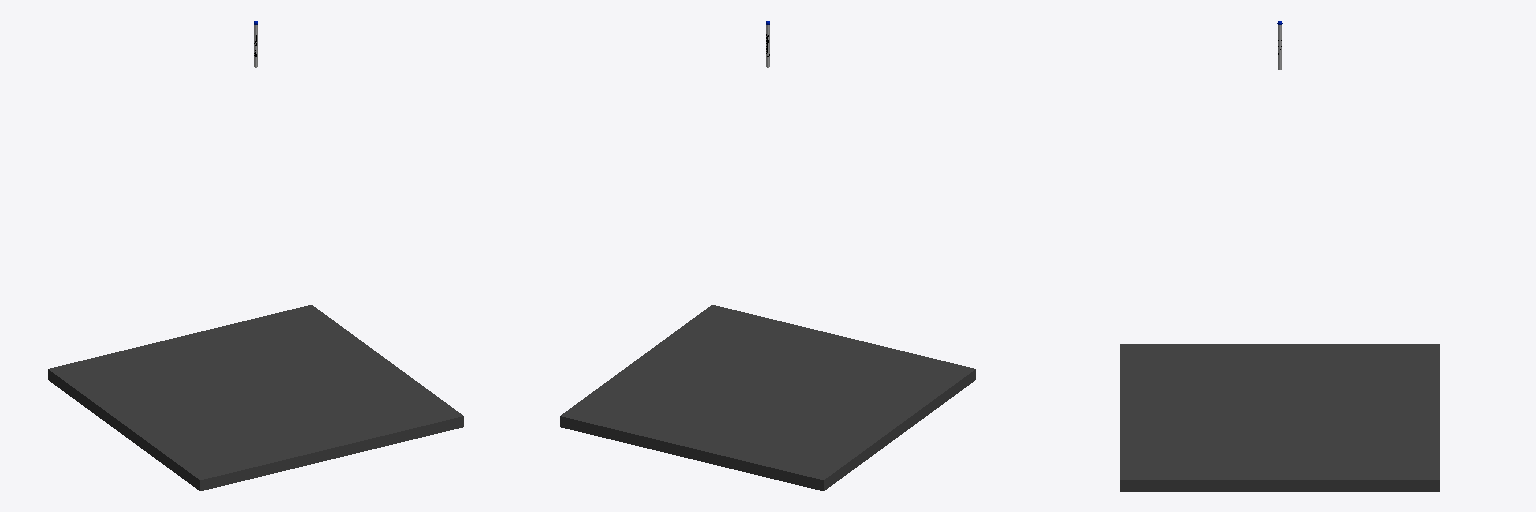
robot.urdf — lwr:
<?xml version="1.0" ?>
<!-- =================================================================================== -->
<!-- |    This document was autogenerated by xacro from kuka_lwr_arm.urdf.xml          | -->
<!-- |    EDITING THIS FILE BY HAND IS NOT RECOMMENDED                                 | -->
<!-- =================================================================================== -->
<robot name="lwr" xmlns:controller="http://playerstage.sourceforge.net/gazebo/xmlschema/#controller" xmlns:interface="http://playerstage.sourceforge.net/gazebo/xmlschema/#interface" xmlns:sensor="http://playerstage.sourceforge.net/gazebo/xmlschema/#sensor" xmlns:xacro="http://www.ros.org/wiki/xacro">
  <gazebo>
    <plugin filename="librtt_gazebo_plugin.so" name="rtt_gazebo">
      <opsScript>
        import(&quot;rtt_ros&quot;);
        ros.import(&quot;rtt_roscomm&quot;);
        ros.import(&quot;rtt_rosparam&quot;);
        ros.import(&quot;rtt_sensor_msgs&quot;);
        ros.import(&quot;lwr_simulation&quot;);
        ros.import(&quot;oro_joint_state_publisher&quot;);
        
        loadComponent(&quot;FRI&quot;,&quot;LWRController&quot;);
        loadComponent(&quot;joints&quot;,&quot;JointStatePublisher&quot;);
        
        loadService(&quot;FRI&quot;,&quot;rosparam&quot;);
        loadService(&quot;joints&quot;,&quot;rosparam&quot;);
        
        setActivity(&quot;FRI&quot;, 0.0, 5, ORO_SCHED_RT);
        setActivity(&quot;joints&quot;, 0.02, 5, ORO_SCHED_RT);
        
        connect(&quot;FRI.JointPosition&quot;,&quot;joints.msrJntPos&quot;, ConnPolicy());
        stream(&quot;joints.joints_state&quot;, rostopic.connection(&quot;/joints_state&quot;));
        
        joints.rosparam.refreshProperties();
        joints.configure();
        joints.start();
      </opsScript>
      <component>FRI</component>
    </plugin>
  </gazebo>
  <material name="DarkGrey">
    <color rgba="0.3 0.3 0.3 1.0"/>
  </material>
  <material name="Red">
    <color rgba="0.3 0.3 0.3 1.0"/>
  </material>
  <material name="Black">
    <color rgba="0 0 0 1.0"/>
  </material>
  <material name="Orange">
    <!--color rgba="1.0 0.487 0 1.0"/-->
    <color rgba="0.0 0.15 0.7 1.0"/>
  </material>
  <material name="Silver">
    <color rgba="1.0 1.0 1.0 1.0"/>
  </material>
  <material name="Grey">
    <color rgba="0.7 0.7 0.7 1.0"/>
  </material>
  <material name="Blue">
    <color rgba="0.0 0.0 0.8 1.0"/>
  </material>
  <material name="HandGray">
    <color rgba="0.953 0.996 0.694 1.0"/>
  </material>
  <material name="SickBlue">
    <color rgba="0.3058 0.5921 0.7294 1.0"/>
  </material>
  <property name="M_PI" value="3.1415926535897931" />
  <!--
  <link name="dupa" >
  </link>
  
  <joint name="arm_world_joint" type="fixed">
    <origin xyz="0 0 0.3" rpy="0 0 0"/>
    <parent link="world"/>
    <child link="world_link"/>
  </joint>
-->
  <link name="base">
    <inertial>
      <mass value="50.0"/>
      <com xyz="0 0 0"/>
      <inertia ixx="0.01" ixy="0.00" ixz="0.00" iyy="0.01" iyz="0.00" izz="0.01"/>
    </inertial>
    <visual>
      <origin rpy="0 0 0" xyz="0 0 0"/>
      <geometry>
        <box size="1 1 0.04"/>
      </geometry>
      <material name="DarkGrey"/>
    </visual>
    <collision>
      <origin rpy="0 0 0" xyz="0 0 0"/>
      <geometry>
        <box size="1 1 0.04"/>
      </geometry>
    </collision>
  </link>
  <joint name="base_joint" type="fixed">
    <origin rpy="0 0 3.14159265359" xyz="0 0 0.02"/>
    <parent link="base"/>
    <child link="lwr_arm_0_link"/>
  </joint>
  <link name="lwr_arm_0_link">
    <inertial>
      <mass value="2.0"/>
      <origin xyz="0 0 0"/>
      <inertia ixx="0.00381666666667" ixy="0" ixz="0" iyy="0.0036" iyz="0" izz="0.00381666666667"/>
    </inertial>
    <visual>
      <origin rpy="0 0 0" xyz="0 0 0"/>
      <geometry>
        <mesh filename="package://lwr_defs/meshes/lwr/base.STL"/>
      </geometry>
      <material name="Orange"/>
    </visual>
    <collision>
      <origin rpy="0 0 3.14159265359" xyz="0 0 0"/>
      <geometry>
        <mesh filename="package://lwr_defs/meshes/lwr/convex/arm_base_convex.stl"/>
        <!--cylinder length="0.11" radius="0.07"/-->
      </geometry>
    </collision>
  </link>
  <joint name="lwr_arm_0_joint" type="revolute">
    <origin rpy="0 0 0" xyz="0 0 0.11"/>
    <axis xyz="0 0 1"/>
    <limit effort="204" lower="-2.96705972839" upper="2.96705972839" velocity="1.91986217719"/>
    <safety_controller k_position="30" k_velocity="30" soft_lower_limit="-2.93215314335" soft_upper_limit="2.93215314335"/>
    <dynamics damping="1.0"/>
    <parent link="lwr_arm_0_link"/>
    <child link="lwr_arm_1_link"/>
  </joint>
  <link name="lwr_arm_1_link">
    <inertial>
      <mass value="2.0"/>
      <origin rpy="0 0 0" xyz="0 -0.06 0.130"/>
      <inertia ixx="0.0136666666667" ixy="0" ixz="0" iyy="0.003" iyz="0" izz="0.0118666666667"/>
    </inertial>
    <visual>
      <origin rpy="0 0 0" xyz="0 0 -0.008"/>
      <geometry>
        <mesh filename="package://lwr_defs/meshes/lwr/link_1.STL"/>
      </geometry>
      <material name="Orange"/>
    </visual>
      <collision>
        <origin xyz="0 0 0" rpy="0 0 0"/>
        <geometry>
          <mesh filename="package://lwr_defs/meshes/lwr/convex/arm_segment_a_convex.stl"/>
        </geometry>
      </collision>
    <!--collision>
      <origin rpy="0 0 0" xyz="0 0 0.0"/>
      <geometry>
        <sphere radius="0.07"/>
      </geometry>
    </collision>
    <collision>
      <origin rpy="0 0 0" xyz="0 -0.06 0.2"/>
      <geometry>
        <sphere radius="0.07"/>
      </geometry>
    </collision>
    <collision>
      <origin rpy="0.291 0 0" xyz="0 -0.03 0.1"/>
      <geometry>
        <cylinder length="0.208" radius="0.07"/>
      </geometry>
    </collision-->
  </link>
  <gazebo reference="lwr_arm_1_link">
    <gravity>false</gravity>
  </gazebo>
  <transmission name="lwr_arm_0_trans" type="SimpleTransmission">
    <actuator name="lwr_arm_0_motor"/>
    <joint name="lwr_arm_0_joint"/>
    <mechanicalReduction>1.0</mechanicalReduction>
  </transmission>
  <joint name="lwr_arm_1_joint" type="revolute">
    <origin rpy="0 0 0" xyz="0 0 0.2005"/>
    <axis xyz="0 1 0"/>
    <limit effort="306" lower="-2.09439510239" upper="2.09439510239" velocity="1.91986217719"/>
    <safety_controller k_position="30" k_velocity="30" soft_lower_limit="-2.05948851735" soft_upper_limit="2.05948851735"/>
    <dynamics damping="1.0" friction="10"/>
    <parent link="lwr_arm_1_link"/>
    <child link="lwr_arm_2_link"/>
  </joint>
  <link name="lwr_arm_2_link">
    <inertial>
      <mass value="2.0"/>
      <origin rpy="0 0 0" xyz="0 0.06 0.07"/>
      <inertia ixx="0.0136666666667" ixy="0" ixz="0" iyy="0.003" iyz="0" izz="0.0118666666667"/>
    </inertial>
    <visual>
      <origin rpy="0 0 0" xyz="0 0 0.0"/>
      <geometry>
        <mesh filename="package://lwr_defs/meshes/lwr/link_2.STL"/>
      </geometry>
      <material name="Orange"/>
    </visual>
      <collision>
        <origin xyz="0 0 0.2" rpy="3.14159265359 0 0"/>
        <geometry>
          <mesh filename="package://lwr_defs/meshes/lwr/convex/arm_segment_b_convex.stl"/>
        </geometry>
      </collision>
    <!--collision>
      <origin rpy="0 0 0" xyz="0 0 0.2"/>
      <geometry>
        <sphere radius="0.07"/>
      </geometry>
    </collision>
    <collision>
      <origin rpy="0 0 0" xyz="0 0.06 0.0"/>
      <geometry>
        <sphere radius="0.07"/>
      </geometry>
    </collision>
    <collision>
      <origin rpy="0.291 0 0" xyz="0 0.03 0.1"/>
      <geometry>
        <cylinder length="0.208" radius="0.07"/>
      </geometry>
    </collision-->
  </link>
  <gazebo reference="lwr_arm_2_link">
    <gravity>false</gravity>
  </gazebo>
  <transmission name="lwr_arm_1_trans" type="SimpleTransmission">
    <actuator name="lwr_arm_1_motor"/>
    <joint name="lwr_arm_1_joint"/>
    <mechanicalReduction>1.0</mechanicalReduction>
  </transmission>
  <joint name="lwr_arm_2_joint" type="revolute">
    <origin rpy="0 0 0" xyz="0 0 0.20"/>
    <axis xyz="0 0 1"/>
    <limit effort="204" lower="-2.96705972839" upper="2.96705972839" velocity="2.26892802759"/>
    <safety_controller k_position="30" k_velocity="30" soft_lower_limit="-2.93215314335" soft_upper_limit="2.93215314335"/>
    <dynamics damping="1.0"/>
    <parent link="lwr_arm_2_link"/>
    <child link="lwr_arm_3_link"/>
  </joint>
  <link name="lwr_arm_3_link">
    <inertial>
      <mass value="2.0"/>
      <origin rpy="0 0 0" xyz="0 0.06 0.130"/>
      <inertia ixx="0.0136666666667" ixy="0" ixz="0" iyy="0.003" iyz="0" izz="0.0118666666667"/>
    </inertial>
    <visual>
      <origin rpy="0 0 0" xyz="0 0 -0.008"/>
      <geometry>
        <mesh filename="package://lwr_defs/meshes/lwr/link_3.STL"/>
      </geometry>
      <material name="Orange"/>
    </visual>
      <collision>
        <origin xyz="0 0 0" rpy="0 0 3.1415926535897931"/>
        <geometry>
          <mesh filename="package://lwr_defs/meshes/lwr/convex/arm_segment_a_convex.stl"/>
        </geometry>
      </collision>
    <!--collision>
      <origin rpy="0 0 0" xyz="0 0 0.0"/>
      <geometry>
        <sphere radius="0.07"/>
      </geometry>
    </collision>
    <collision>
      <origin rpy="0 0 0" xyz="0 0.06 0.2"/>
      <geometry>
        <sphere radius="0.07"/>
      </geometry>
    </collision>
    <collision>
      <origin rpy="-0.291 0 0" xyz="0 0.03 0.1"/>
      <geometry>
        <cylinder length="0.208" radius="0.07"/>
      </geometry>
    </collision-->
  </link>
  <gazebo reference="lwr_arm_3_link">
    <gravity>false</gravity>
  </gazebo>
  <transmission name="lwr_arm_2_trans" type="SimpleTransmission">
    <actuator name="lwr_arm_2_motor"/>
    <joint name="lwr_arm_2_joint"/>
    <mechanicalReduction>1.0</mechanicalReduction>
  </transmission>
  <joint name="lwr_arm_3_joint" type="revolute">
    <origin rpy="0 0 0" xyz="0 0 0.20"/>
    <axis xyz="0 -1 0"/>
    <limit effort="306" lower="-2.09439510239" upper="2.09439510239" velocity="2.26892802759"/>
    <safety_controller k_position="30" k_velocity="30" soft_lower_limit="-2.05948851735" soft_upper_limit="2.05948851735"/>
    <dynamics damping="1.0"/>
    <parent link="lwr_arm_3_link"/>
    <child link="lwr_arm_4_link"/>
  </joint>
  <link name="lwr_arm_4_link">
    <inertial>
      <mass value="2.0"/>
      <origin rpy="0 0 0" xyz="0 -0.06 0.07"/>
      <inertia ixx="0.0136666666667" ixy="0" ixz="0" iyy="0.003" iyz="0" izz="0.0118666666667"/>
    </inertial>
    <visual>
      <origin rpy="0 0 0" xyz="0 0 0.0"/>
      <geometry>
        <mesh filename="package://lwr_defs/meshes/lwr/link_4.STL"/>
      </geometry>
      <material name="Orange"/>
    </visual>

      <collision>
        <origin xyz="0 0 0.2" rpy="0 3.1415926535897931 0"/>
        <geometry>
          <mesh filename="package://lwr_defs/meshes/lwr/convex/arm_segment_b_convex.stl"/>
        </geometry>
      </collision>

    <!--collision>
      <origin rpy="0 0 0" xyz="0 0 0.2"/>
      <geometry>
        <sphere radius="0.07"/>
      </geometry>
    </collision>
    <collision>
      <origin rpy="0 0 0" xyz="0 -0.06 0.0"/>
      <geometry>
        <sphere radius="0.07"/>
      </geometry>
    </collision>
    <collision>
      <origin rpy="-0.291 0 0" xyz="0 -0.03 0.1"/>
      <geometry>
        <cylinder length="0.208" radius="0.07"/>
      </geometry>
    </collision-->
  </link>
  <gazebo reference="lwr_arm_4_link">
    <gravity>false</gravity>
  </gazebo>
  <transmission name="lwr_arm_3_trans" type="SimpleTransmission">
    <actuator name="lwr_arm_3_motor"/>
    <joint name="lwr_arm_3_joint"/>
    <mechanicalReduction>1.0</mechanicalReduction>
  </transmission>
  <joint name="lwr_arm_4_joint" type="revolute">
    <origin rpy="0 0 0" xyz="0 0 0.20"/>
    <axis xyz="0 0 1"/>
    <limit effort="204" lower="-2.96705972839" upper="2.96705972839" velocity="2.26892802759"/>
    <safety_controller k_position="30" k_velocity="30" soft_lower_limit="-2.93215314335" soft_upper_limit="2.93215314335"/>
    <dynamics damping="1.0"/>
    <parent link="lwr_arm_4_link"/>
    <child link="lwr_arm_5_link"/>
  </joint>
  <link name="lwr_arm_5_link">
    <inertial>
      <mass value="2.0"/>
      <origin rpy="0 0 0" xyz="0 0 0.124"/>
      <inertia ixx="0.0126506666667" ixy="0" ixz="0" iyy="0.003" iyz="0" izz="0.0108506666667"/>
    </inertial>
    <visual>
      <origin rpy="0 0 0" xyz="0 0 -0.008"/>
      <geometry name="lwr_arm_5_geom">
        <mesh filename="package://lwr_defs/meshes/lwr/link_5.STL"/>
      </geometry>
      <material name="Orange"/>
    </visual>
      <collision>
        <origin xyz="0 0 0" rpy="0 0 0"/>
        <geometry>
          <mesh filename="package://lwr_defs/meshes/lwr/convex/arm_segment_last_convex.stl"/>
        </geometry>
      </collision>
    <!--collision>
      <origin rpy="0 0 0" xyz="0 0 0.0"/>
      <geometry>
        <sphere radius="0.07"/>
      </geometry>
    </collision>
    <collision>
      <origin rpy="0 0 0" xyz="0 -0.04 0.19"/>
      <geometry>
        <sphere radius="0.07"/>
      </geometry>
    </collision>
    <collision>
      <origin rpy="0.207 0 0" xyz="0 -0.02 0.095"/>
      <geometry>
        <cylinder length="0.198" radius="0.07"/>
      </geometry>
    </collision-->
  </link>
  <gazebo reference="lwr_arm_5_link">
    <gravity>false</gravity>
  </gazebo>
  <transmission name="lwr_arm_4_trans" type="SimpleTransmission">
    <actuator name="lwr_arm_4_motor"/>
    <joint name="lwr_arm_4_joint"/>
    <mechanicalReduction>1.0</mechanicalReduction>
  </transmission>
  <joint name="lwr_arm_5_joint" type="revolute">
    <origin rpy="0 0 0" xyz="0 0 0.19"/>
    <axis xyz="0 1 0"/>
    <limit effort="306" lower="-2.09439510239" upper="2.09439510239" velocity="3.14159265359"/>
    <safety_controller k_position="30" k_velocity="30" soft_lower_limit="-2.05948851735" soft_upper_limit="2.05948851735"/>
    <dynamics damping="1.0"/>
    <parent link="lwr_arm_5_link"/>
    <child link="lwr_arm_6_link"/>
  </joint>
  <link name="lwr_arm_6_link">
    <inertial>
      <mass value="0.2"/>
      <origin rpy="0 0 0" xyz="0 0 0.0625"/>
      <inertia ixx="0.000520833333333" ixy="0" ixz="0" iyy="0.000520833333333" iyz="0" izz="0.000520833333333"/>
    </inertial>
    <visual>
      <origin rpy="0 0 0" xyz="0 0 0"/>
      <geometry>
        <mesh filename="package://lwr_defs/meshes/lwr/link_6.STL"/>
      </geometry>
      <material name="Grey"/>
    </visual>
    <collision>
      <origin rpy="0 0 0" xyz="0 0 0"/>
      <geometry>
        <mesh filename="package://lwr_defs/meshes/lwr/convex/arm_wrist_convex.stl"/>
      </geometry>
    </collision>
  </link>
  <gazebo reference="lwr_arm_6_link">
    <gravity>false</gravity>
  </gazebo>
  <transmission name="lwr_arm_5_trans" type="SimpleTransmission">
    <actuator name="lwr_arm_5_motor"/>
    <joint name="lwr_arm_5_joint"/>
    <mechanicalReduction>1.0</mechanicalReduction>
  </transmission>
  <joint name="lwr_arm_6_joint" type="revolute">
    <origin rpy="0 0 0" xyz="0 0 0.078"/>
    <axis xyz="0 0 1"/>
    <limit effort="204" lower="-2.96705972839" upper="2.96705972839" velocity="3.14159265359"/>
    <safety_controller k_position="30" k_velocity="30" soft_lower_limit="-2.93215314335" soft_upper_limit="2.93215314335"/>
    <dynamics damping="1.0"/>
    <parent link="lwr_arm_6_link"/>
    <child link="lwr_arm_7_link"/>
  </joint>
  <link name="lwr_arm_7_link">
    <inertial>
      <mass value="0.2"/>
      <origin xyz="0 0 0"/>
      <inertia ixx="0.0333333333333" ixy="0" ixz="0" iyy="0.0333333333333" iyz="0" izz="0.0333333333333"/>
    </inertial>
    <visual>
      <origin rpy="0 0 0" xyz="0 0 0"/>
      <geometry>
        <mesh filename="package://lwr_defs/meshes/lwr/link_7.STL"/>
      </geometry>
      <material name="Grey"/>
    </visual>
    <collision>
      <origin rpy="0 0 -0.785398163397" xyz="0 0 0"/>
      <geometry>
        <cylinder length="0.05" radius="0.04"/>
      </geometry>
    </collision>
  </link>
  <gazebo reference="lwr_arm_7_link">
    <gravity>false</gravity>
  </gazebo>
  <transmission name="lwr_arm_6_trans" type="SimpleTransmission">
    <actuator name="lwr_arm_6_motor"/>
    <joint name="lwr_arm_6_joint"/>
    <mechanicalReduction>1.0</mechanicalReduction>
  </transmission>

  <!-- Pen Tool-->
    <joint name="pen_base_joint" type="fixed" >
      <origin rpy="0 0 0" xyz="0 0 0.08"/>
      <insert_block name="origin" />
      <parent link="lwr_arm_7_link" />
      <child link="pen_base_link" />
    </joint>

    <link name="pen_base_link">
      <inertial>
        <origin xyz="0 0 0" rpy="0 0 0"/>
        <mass value="1"/>
        <inertia ixx="0.01" ixy="0" ixz="0" iyy="0.01" iyz="0" izz="0.01" />
      </inertial>
      
      <visual>
        <origin xyz="0 0 0" rpy="0 0 0" />
        <geometry>
          <cylinder length="0.16" radius="0.005"/>
        </geometry>
        <material name="Grey"/>
      </visual>
      
      <collision>
        <origin xyz="0 0 0" rpy="0 0 0" />
        <geometry>
          <cylinder length="0.16" radius="0.005"/>
        </geometry>
      </collision>
    </link>
    
    <joint name="pen_tip_joint" type="fixed" >
      <origin rpy="0 0 0" xyz="0 0 0.08"/>
      <insert_block name="origin" />
      <parent link="pen_base_link" />
      <child link="pen_tip_link" />
    </joint>

    <link name="pen_tip_link">
      <inertial>
        <origin xyz="0 0 0" rpy="0 0 0"/>
        <mass value="1"/>
        <inertia ixx="0.01" ixy="0" ixz="0" iyy="0.01" iyz="0" izz="0.01" />
      </inertial>
      
      <visual>
        <origin xyz="0 0 0" rpy="0 0 0" />
        <geometry>
          <sphere radius="0.008"/>
        </geometry>
        <material name="Orange"/>
      </visual>
    </link>

    <joint name="pen_ori_joint" type="fixed" >
      <origin rpy="0 0 0" xyz="0 0 0.08"/>
      <insert_block name="origin" />
      <parent link="lwr_arm_7_link" />
      <child link="pen_ori_link" />
    </joint>

    <link name="pen_ori_link">
      <inertial>
        <origin xyz="0 0 0" rpy="0 0 0"/>
        <mass value="1"/>
        <inertia ixx="0.01" ixy="0" ixz="0" iyy="0.01" iyz="0" izz="0.01" />
      </inertial>
      
      <visual>
        <origin xyz="0 0 0" rpy="0 0 0" />
        <geometry>
          <cylinder length="0.08" radius="0.005"/>
        </geometry>
        <material name="Non">
          <color rgba="0 0 0 0"/>
        </material>
      </visual>
    </link>
</robot>

--- Render facts (derived) ---
The picture shows the robot from 3 angles, left to right: view 1: azimuth 30°, elevation 25°; view 2: azimuth 150°, elevation 25°; view 3: azimuth 270°, elevation 25°; orthographic projection.
Model lwr with 12 links and 11 joints (7 revolute, 4 fixed), rooted at base, posed every joint at zero.
Visible links, largest first — view 1: base; view 2: base; view 3: base.
Boxes of the visible links, bbox=[...] form: base: bbox=[48, 305, 463, 490]; base: bbox=[560, 305, 975, 490]; base: bbox=[1120, 344, 1439, 491].
Size in the robot's own frame: 1 by 1 by 1.39 metres.
0 mesh visuals loaded from 8 distinct referenced files (none loaded); not drawn: 8 (reference not matched to a file when rendering).